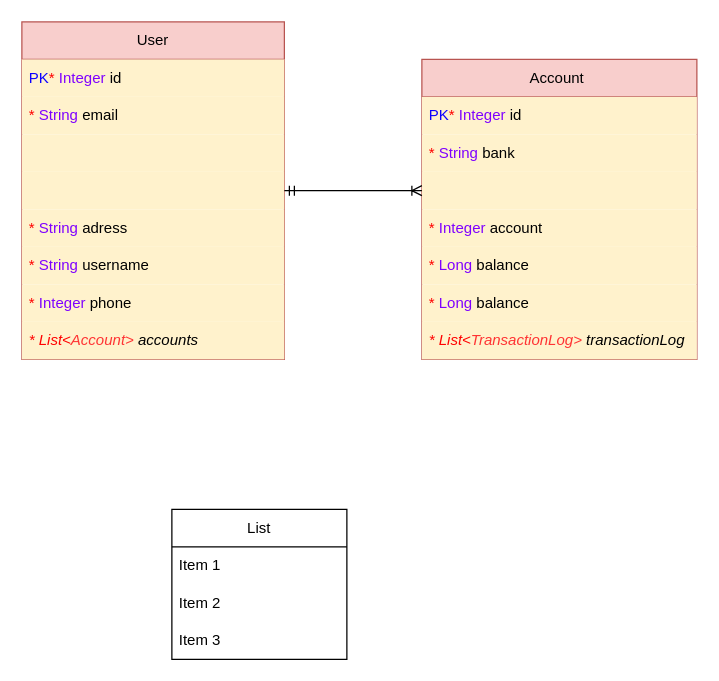
Some shapes in this 719 by 681 pixel diagram are drawn without their labels. Here are the shapes that lost their labels. From the top down, the centre of each, then its label:
the point at 152,152: * String password
the point at 152,190: PK * Integer documentNumber
the point at 558,190: * Integer agency
